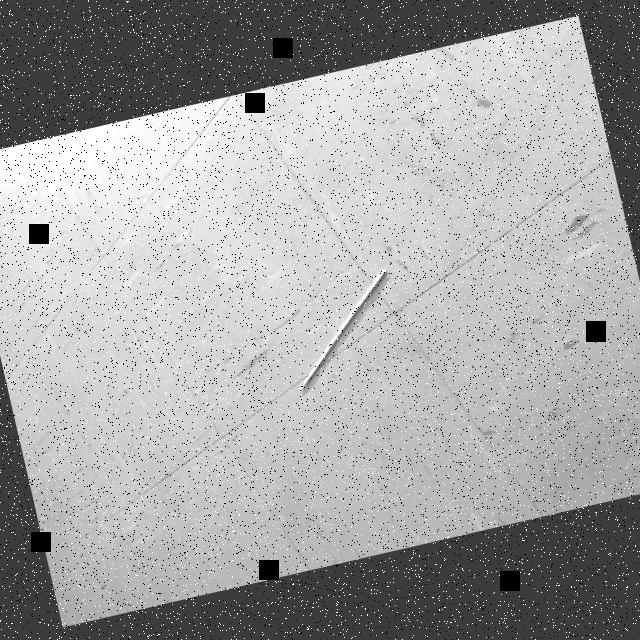stick: (270, 258, 416, 402)
